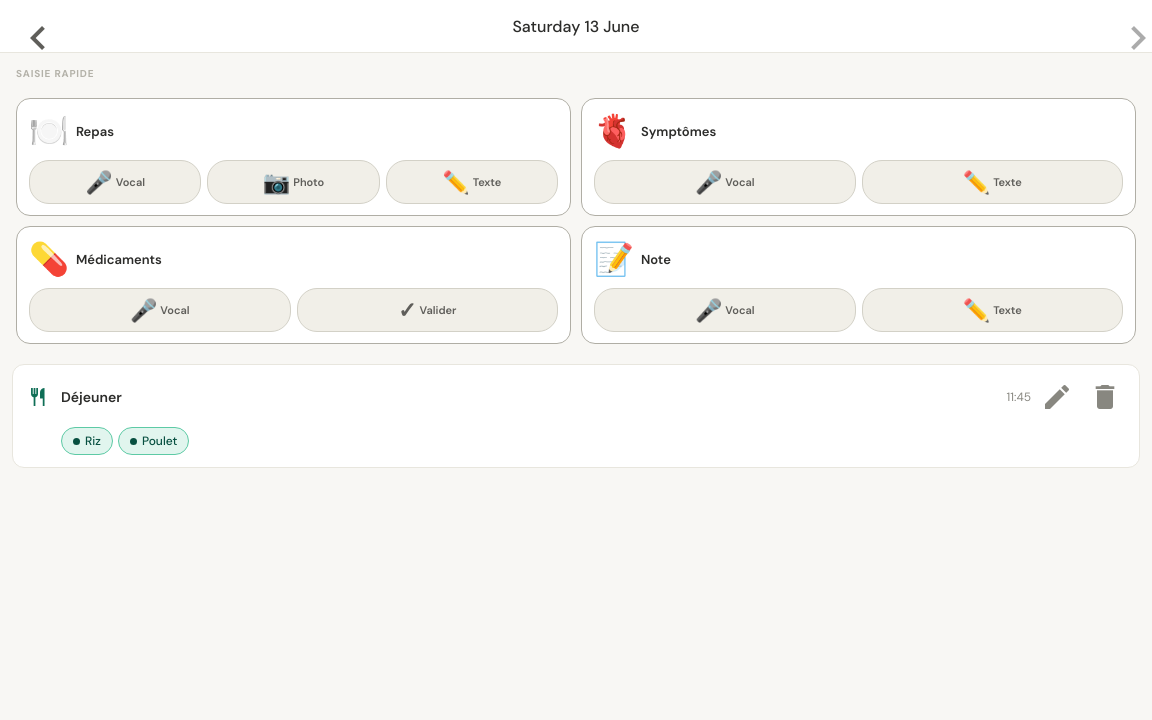
Test: JournalHomeComponent › boutons d'édition › le clic sur delete-meal-btn supprime le repas et le retire de la liste
The width and height of the screenshot is (1152, 720).
Click the button with test id "delete-meal-btn" at (1105, 397), box [1083, 375, 1127, 419]
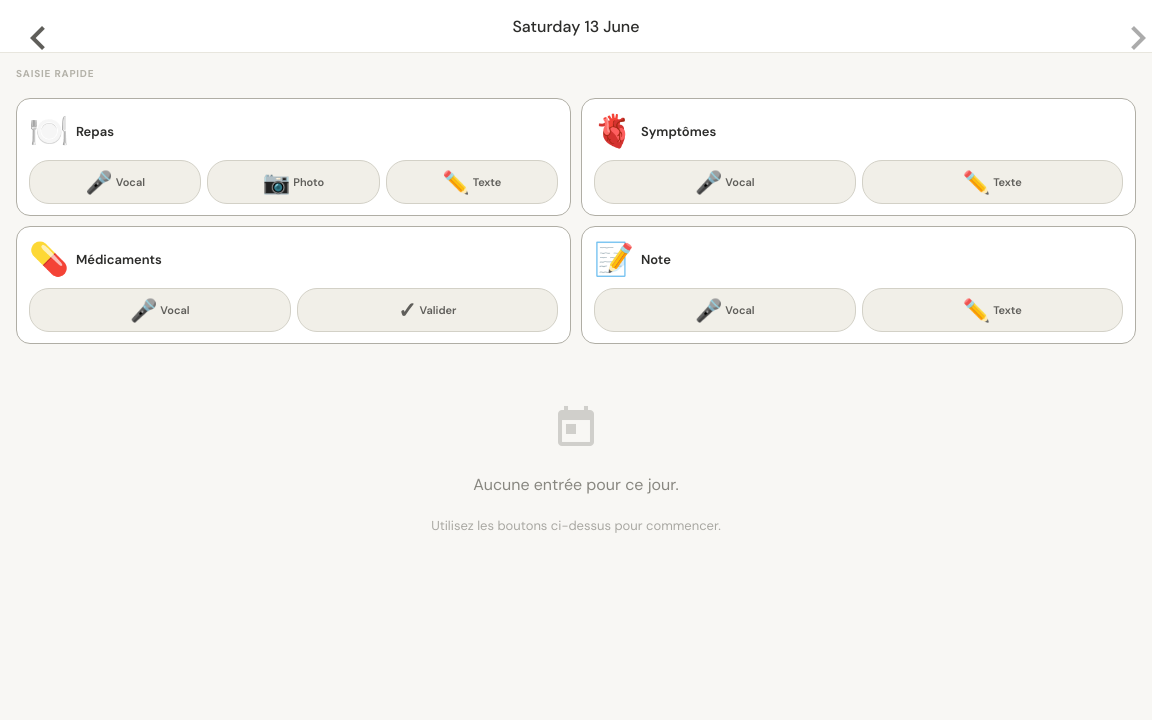
Check: the element with test id "meal-entry" is gone
